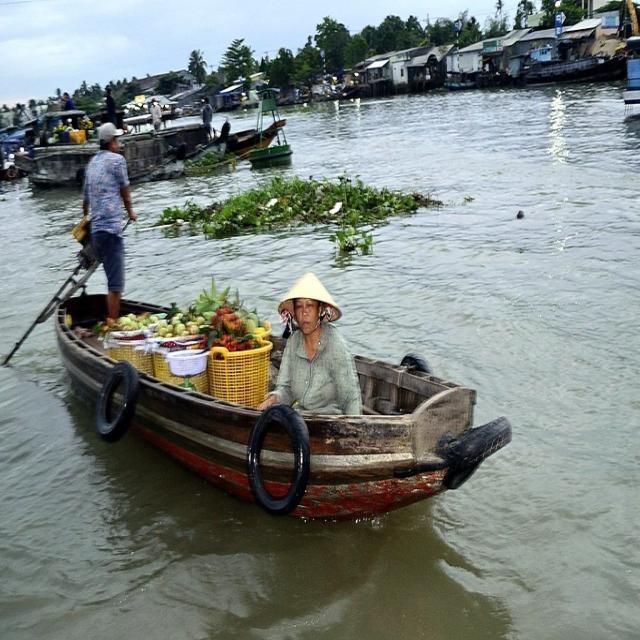Hyacinth: (168, 180, 460, 252)
boat: (46, 276, 517, 512)
